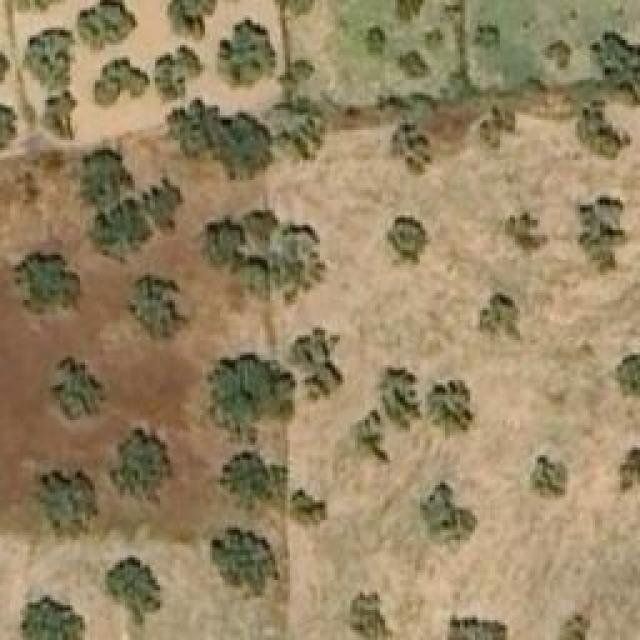Tree: (168, 98, 273, 183), (207, 355, 295, 445), (200, 210, 280, 293), (270, 215, 328, 308), (110, 428, 173, 513), (32, 468, 100, 541), (212, 528, 280, 601), (13, 253, 83, 316), (575, 195, 628, 275), (105, 555, 163, 625), (290, 328, 343, 403), (167, 0, 260, 42), (88, 198, 153, 258), (220, 450, 288, 503), (220, 18, 275, 83), (420, 483, 478, 543), (55, 355, 108, 420), (590, 30, 640, 98), (570, 100, 625, 158), (23, 30, 76, 88), (132, 278, 180, 338), (20, 597, 85, 640), (92, 57, 150, 105), (155, 43, 205, 98), (78, 145, 128, 198), (428, 380, 473, 438), (383, 368, 423, 428), (340, 415, 388, 465), (390, 125, 435, 178), (345, 592, 393, 640), (84, 0, 137, 42), (480, 293, 523, 343), (385, 213, 425, 266), (478, 102, 518, 150), (505, 213, 548, 256), (145, 175, 178, 230), (530, 455, 568, 500), (43, 90, 78, 138), (450, 612, 508, 640), (290, 490, 328, 530), (620, 445, 640, 510), (617, 355, 640, 410), (392, 53, 430, 78), (558, 612, 591, 640), (0, 105, 18, 153), (545, 40, 573, 70), (472, 25, 500, 48), (365, 27, 388, 55), (395, 0, 422, 22)
